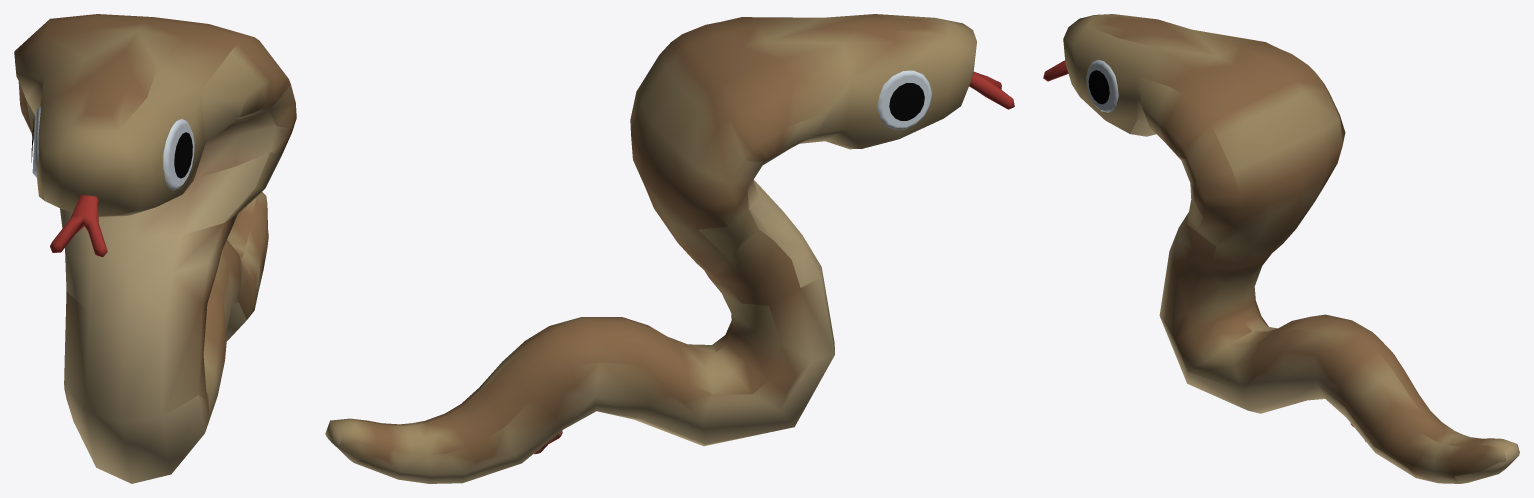
The model's file is Cobra.glb.
3 views of the same model, side by side, from view 1: azimuth 30°, elevation 25°; view 2: azimuth 150°, elevation 25°; view 3: azimuth 270°, elevation 25° (orthographic). The views are drawn at different scales.
Parts seen in each view (by area): view 1: 30; view 2: 30; view 3: 30.
Boxes of the visible parts, x1,y1,x2,y2 form: 30: (14,14,296,483); 30: (325,14,1014,483); 30: (1043,14,1519,483).
Size of the model in its own units: 0.8165 by 0.7217 by 0.8969.
